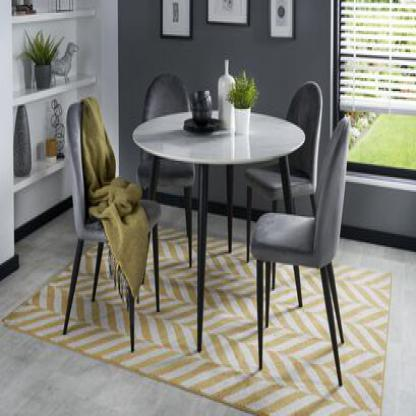chair: (256, 116, 378, 389), (54, 98, 162, 350), (138, 79, 196, 269), (253, 82, 328, 212)
table: (113, 107, 309, 357)
